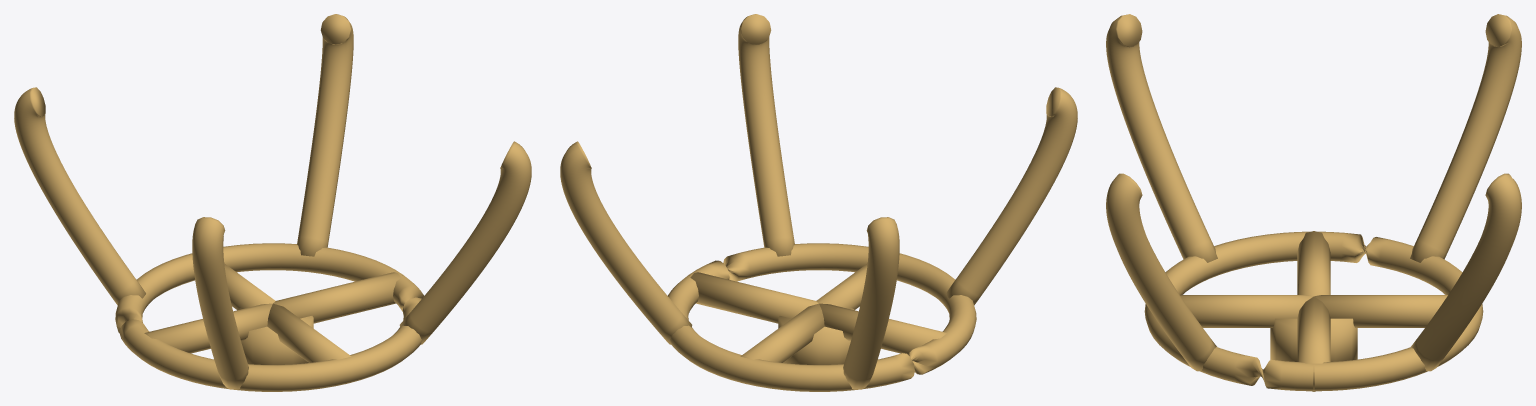
Rendered from stuller-lg-500090892-4-prong.glb.
The picture shows the model from 3 angles, left to right: view 1: azimuth 30°, elevation 25°; view 2: azimuth 150°, elevation 25°; view 3: azimuth 270°, elevation 25°; orthographic projection. The views are drawn at different scales.
Visible parts, largest first — view 1: Metal.001, Metal.006, Metal.007, Metal.009, Metal.008, Metal.002, Metal.005, Metal.004, Metal, Metal.003; view 2: Metal.001, Metal.009, Metal.008, Metal.006, Metal.007, Metal.002, Metal.003, Metal.004, Metal, Metal.005; view 3: Metal.001, Metal.007, Metal.008, Metal.009, Metal.006, Metal.003, Metal.005, Metal, Metal.002, Metal.004.
Part boxes in pixels (bbox=[...]): Metal.001: bbox=[115, 243, 423, 391]; Metal.006: bbox=[297, 14, 353, 256]; Metal.007: bbox=[14, 87, 145, 305]; Metal.009: bbox=[399, 141, 531, 344]; Metal.008: bbox=[192, 217, 248, 389]; Metal.002: bbox=[273, 272, 401, 323]; Metal.005: bbox=[267, 303, 351, 362]; Metal.004: bbox=[144, 303, 272, 353]; Metal: bbox=[237, 307, 313, 364]; Metal.003: bbox=[224, 263, 275, 309]; Metal.001: bbox=[668, 243, 976, 391]; Metal.009: bbox=[738, 14, 794, 256]; Metal.008: bbox=[946, 87, 1077, 305]; Metal.006: bbox=[560, 141, 692, 344]; Metal.007: bbox=[843, 217, 899, 389]; Metal.002: bbox=[690, 272, 818, 323]; Metal.003: bbox=[740, 303, 824, 362]; Metal.004: bbox=[819, 303, 947, 355]; Metal: bbox=[778, 307, 854, 364]; Metal.005: bbox=[816, 263, 867, 309]; Metal.001: bbox=[1144, 231, 1483, 391]; Metal.007: bbox=[1410, 14, 1521, 262]; Metal.008: bbox=[1106, 14, 1217, 262]; Metal.009: bbox=[1106, 173, 1216, 371]; Metal.006: bbox=[1411, 173, 1521, 371]; Metal.003: bbox=[1314, 295, 1447, 327]; Metal.005: bbox=[1180, 295, 1313, 327]; Metal: bbox=[1270, 318, 1357, 361]; Metal.002: bbox=[1297, 296, 1330, 391]; Metal.004: bbox=[1297, 231, 1330, 296].
Bounding box in the file's own units: 5.73 × 4.05 × 5.73.
